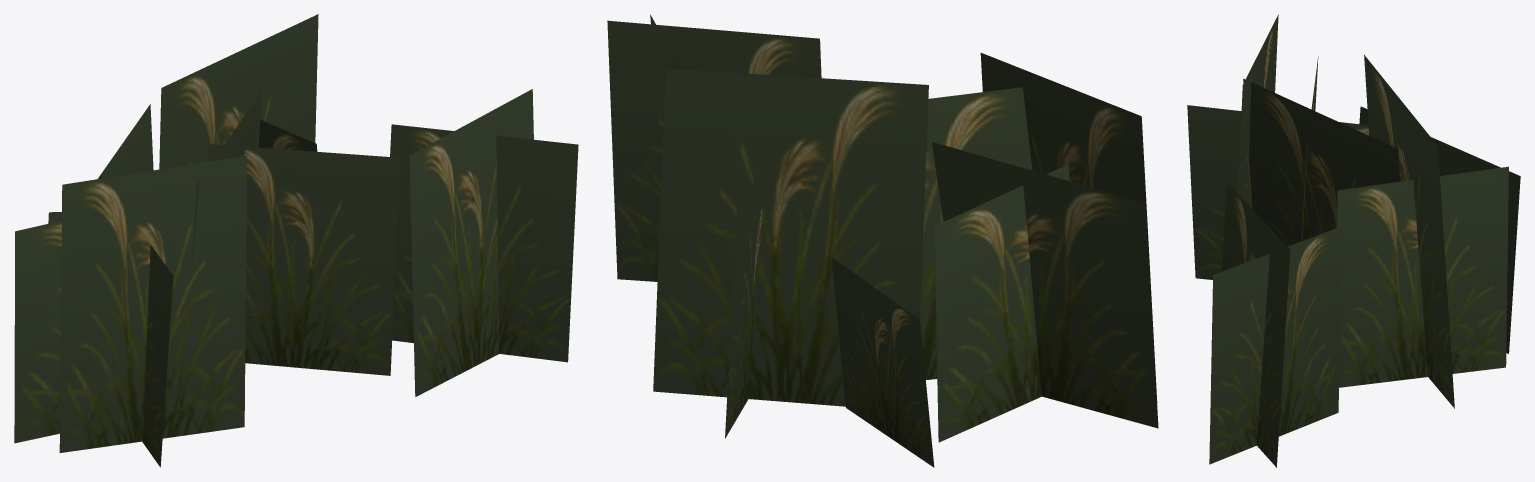
The model's file is wm_灌木芦苇01.fbx.
The picture shows the model from 3 angles, left to right: view 1: azimuth 30°, elevation 25°; view 2: azimuth 150°, elevation 25°; view 3: azimuth 270°, elevation 25°; orthographic projection. The views are drawn at different scales.
Visible parts, largest first — view 1: wm_灌木芦苇01; view 2: wm_灌木芦苇01; view 3: wm_灌木芦苇01.
Part boxes in pixels (x1,y1,x2,y2): wm_灌木芦苇01: (14,14,578,467); wm_灌木芦苇01: (607,14,1158,467); wm_灌木芦苇01: (1187,14,1520,467).
Bounding box in the file's own units: 409 × 222 × 252.
